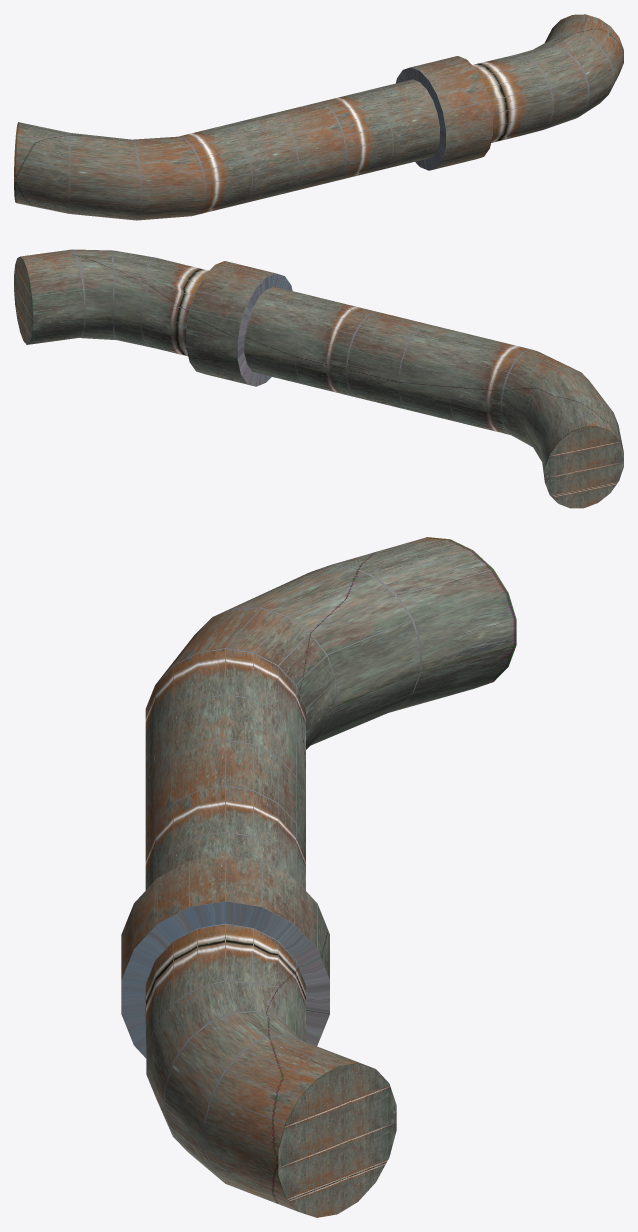
Rendered from cir1.FBX.
3 views of the same model, one above another, from view 1: azimuth 30°, elevation 25°; view 2: azimuth 150°, elevation 25°; view 3: azimuth 270°, elevation 25° (orthographic). The views are drawn at different scales.
Parts seen in each view (by area): view 1: Cylinder001; view 2: Cylinder001; view 3: Cylinder001.
Boxes of the visible parts, bbox=[...] form: Cylinder001: bbox=[14, 14, 623, 220]; Cylinder001: bbox=[14, 249, 623, 508]; Cylinder001: bbox=[121, 537, 516, 1217].
Size of the model in its own units: 152 by 23.88 by 44.51.
